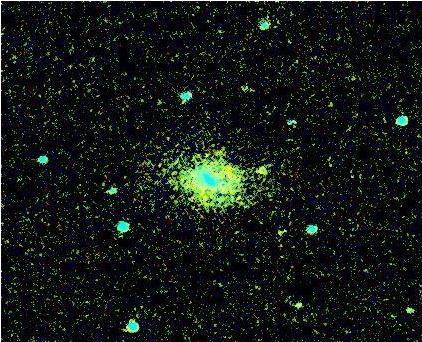star: (247, 162, 277, 192)
